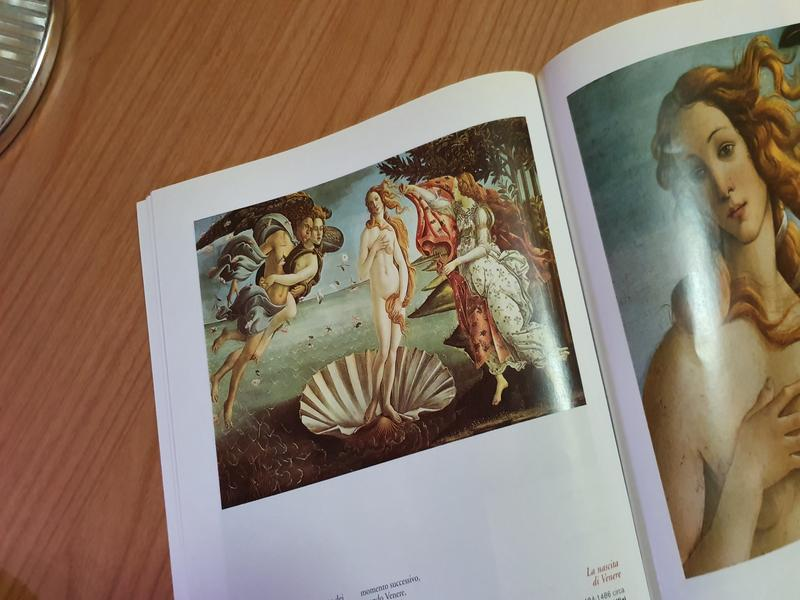Venere: (192, 116, 587, 509)
